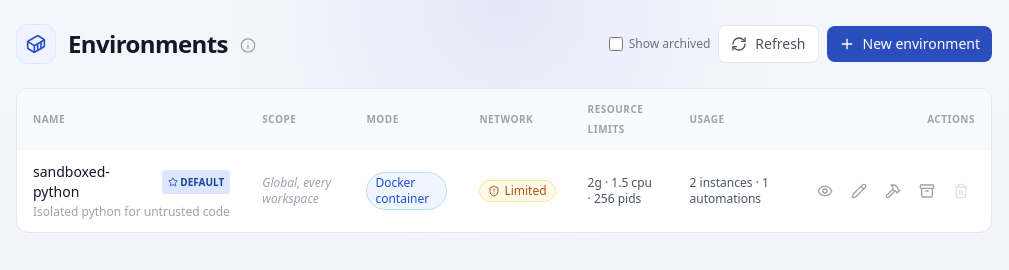
Test: Environments — the list › builds the docker image on request
Expected: the text "sandboxed-python" is shown, [33,162,110,201]
What coordinates should you click on to do the following:
click the button titled "Build image"
I would click on:
 (893, 191)
Its box is [879,177,907,205].
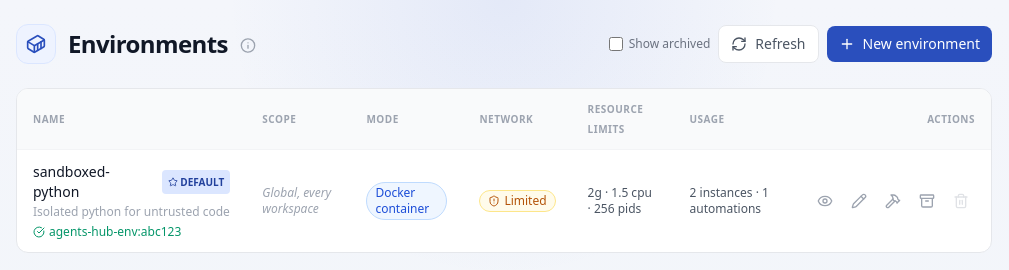
Expected: the text "agents-hub-env:abc123" is shown, [33,223,181,240]
